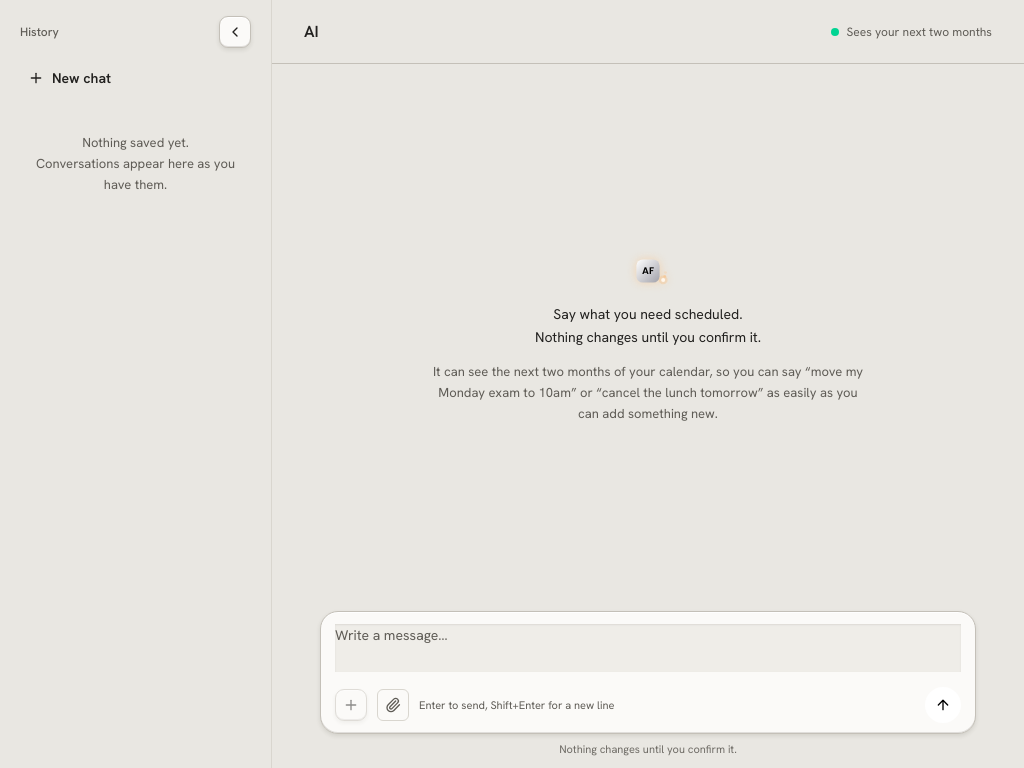
Test: ai message list, with a real turn on the transcript › shows the count header and the Confirm and Dismiss buttons
Click the text box with placeholder "Write a message…". click: click(648, 648)
box: [335,624,961,672]
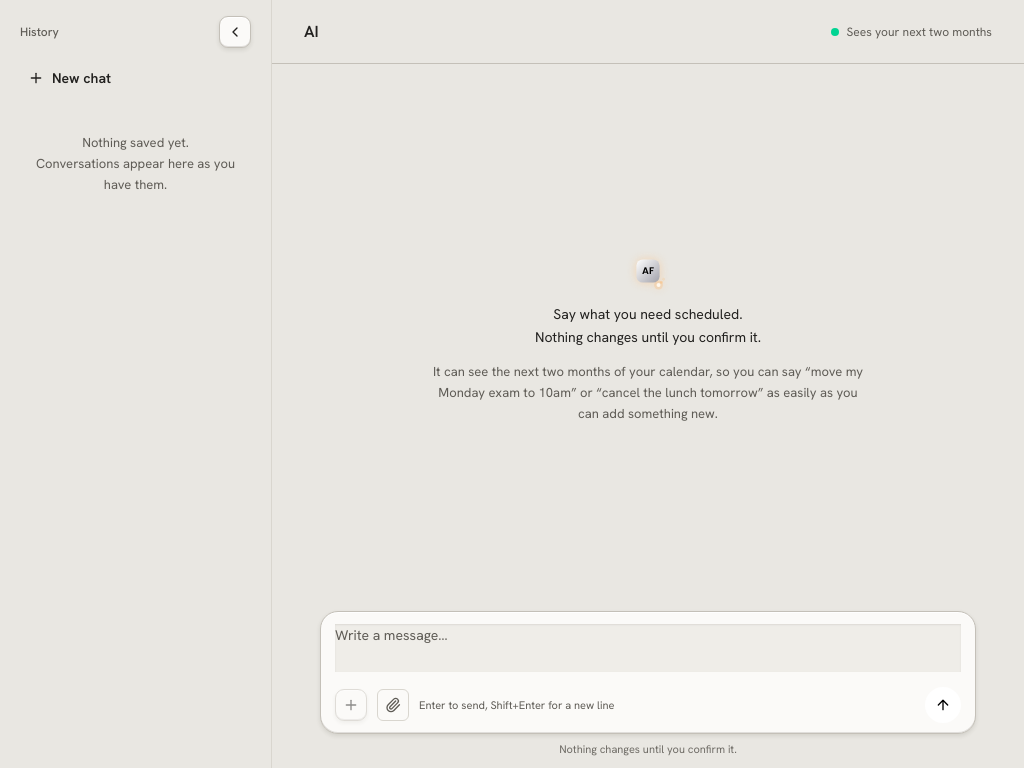
Type keys "lunch with Dina, and grading time on Wednesday"
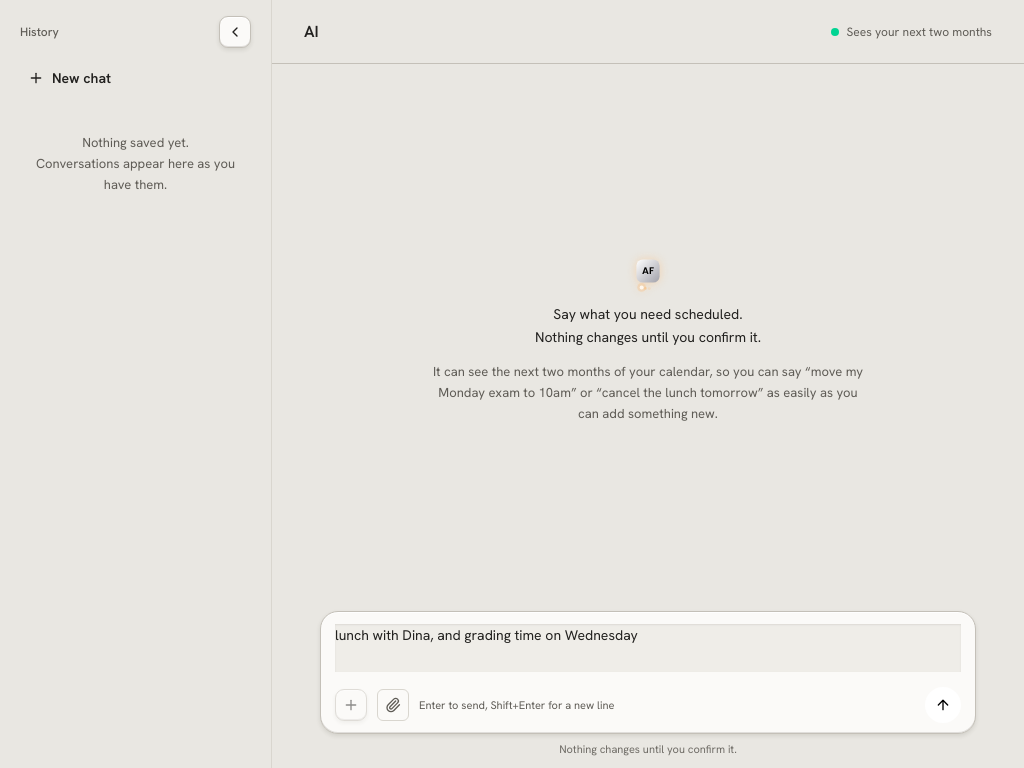
Click the button named "Send". click: click(943, 705)
box: [925,687,961,723]
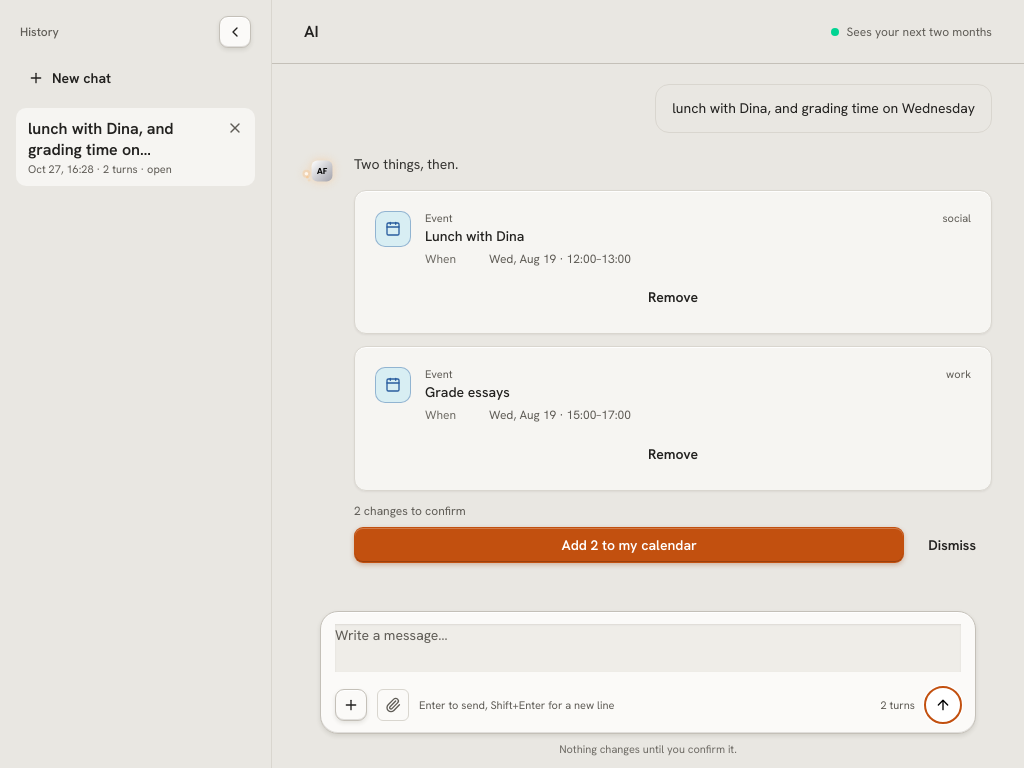
Now the text "Lunch with Dina" is shown, box [425,226,524,244]
Now the button "Add 2 to my calendar" is shown, box [354,526,904,562]
Now the button "Dismiss" is shown, box [912,526,992,562]
